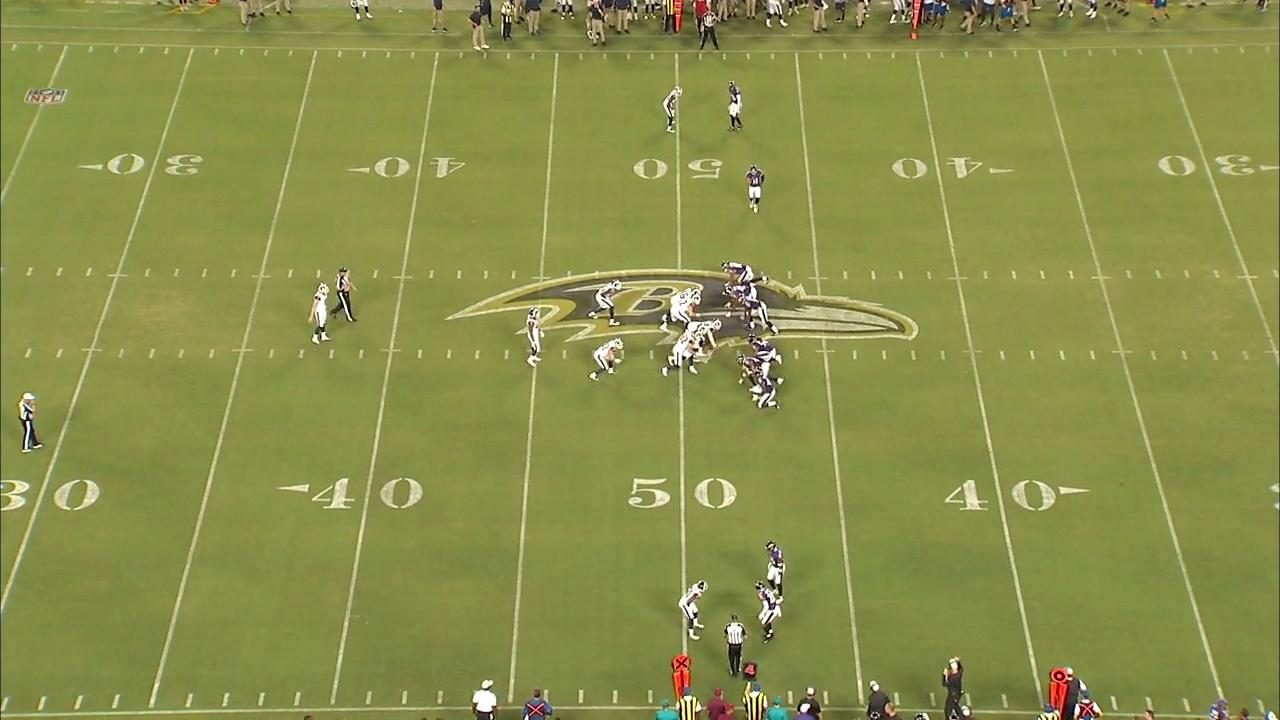five_hash: (106, 271, 130, 278), (530, 274, 552, 281), (379, 347, 402, 353), (814, 349, 837, 355), (960, 349, 983, 355), (1090, 275, 1113, 281), (1236, 274, 1259, 280), (392, 274, 414, 280), (947, 275, 969, 281), (79, 348, 104, 353), (231, 348, 256, 353), (250, 274, 274, 279), (807, 276, 830, 281), (1111, 349, 1134, 354)
hash: (1025, 349, 1040, 363), (1147, 348, 1161, 362), (907, 349, 920, 363), (1208, 348, 1221, 362), (1239, 348, 1252, 362), (849, 347, 861, 362), (22, 347, 34, 361), (878, 348, 890, 362), (1056, 349, 1068, 363), (1087, 348, 1099, 362), (1178, 348, 1190, 362), (645, 347, 656, 362), (170, 267, 183, 279), (370, 268, 382, 281), (1152, 267, 1164, 280), (53, 347, 65, 360), (558, 348, 570, 361), (426, 268, 437, 282), (326, 347, 337, 361), (266, 348, 278, 360), (1037, 269, 1048, 282), (1123, 268, 1134, 281), (1212, 268, 1223, 281), (146, 347, 157, 360), (296, 347, 307, 360), (791, 348, 802, 361), (997, 349, 1008, 362), (286, 267, 297, 279), (1181, 268, 1192, 280), (175, 348, 186, 360), (454, 268, 464, 281), (868, 268, 878, 281), (1009, 269, 1019, 282), (414, 348, 424, 361), (444, 348, 454, 361), (939, 349, 949, 362), (501, 347, 510, 361), (54, 267, 65, 278), (142, 267, 153, 278), (24, 265, 34, 277), (83, 266, 93, 278), (199, 267, 209, 279), (314, 268, 324, 280), (785, 269, 795, 281), (896, 269, 906, 281), (1067, 269, 1077, 281), (207, 348, 217, 360), (472, 348, 482, 360), (509, 268, 518, 281), (841, 270, 851, 281), (981, 269, 991, 280), (117, 348, 127, 359), (481, 269, 490, 281), (357, 348, 366, 360), (228, 268, 238, 278), (924, 269, 933, 280), (1271, 270, 1280, 281)
marker: (670, 656, 693, 705), (1050, 667, 1067, 717), (911, 0, 922, 42), (672, 0, 682, 31)
number: (308, 474, 429, 513), (941, 476, 1058, 513), (627, 475, 740, 513), (890, 153, 988, 184), (1155, 151, 1259, 180), (105, 150, 205, 179), (629, 155, 728, 184), (372, 154, 468, 181)
